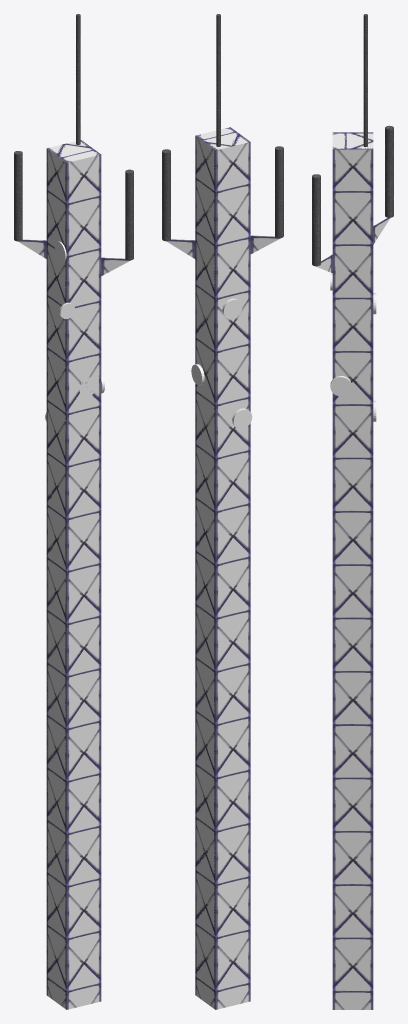
Rendered from Antena.fbx.
The picture shows the model from 3 angles, left to right: view 1: azimuth 30°, elevation 25°; view 2: azimuth 210°, elevation 25°; view 3: azimuth 270°, elevation 25°; orthographic projection.
Parts seen in each view (by area): view 1: Model, Group10, Group8, Group9; view 2: Model, Group8, Group10, Group9, Group3, Group4; view 3: Model, Group10, Group8, Group9, Group6.
Part boxes in pixels (box(x1,y1,x2,y2)): Model: box(18, 140, 130, 1009); Group10: box(125, 169, 133, 260); Group8: box(14, 151, 22, 241); Group9: box(76, 14, 80, 144); Model: box(166, 127, 280, 1009); Group8: box(275, 146, 283, 238); Group10: box(162, 149, 170, 241); Group9: box(216, 14, 220, 146); Group3: box(222, 298, 242, 319); Group4: box(232, 408, 252, 429); Model: box(315, 132, 390, 1009); Group10: box(312, 174, 320, 266); Group8: box(385, 125, 393, 217); Group9: box(363, 14, 367, 146); Group6: box(330, 376, 351, 396).
Size of what is drawn, in the model's own units: 431 by 4848 by 363.
